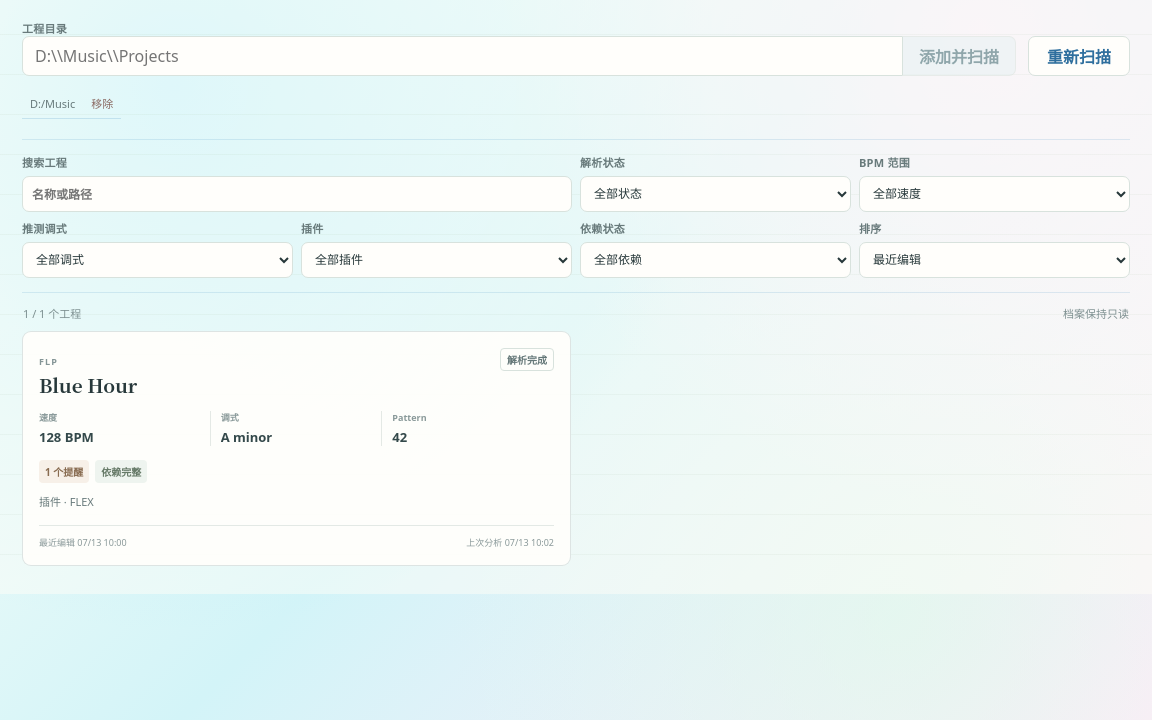
StudioLibrary › reports a completed scan refresh failure after completion is rendered
The width and height of the screenshot is (1152, 720).
Click the button "重新扫描".
click(1079, 56)  # box [1028,36,1130,76]
Wait 1000 ms
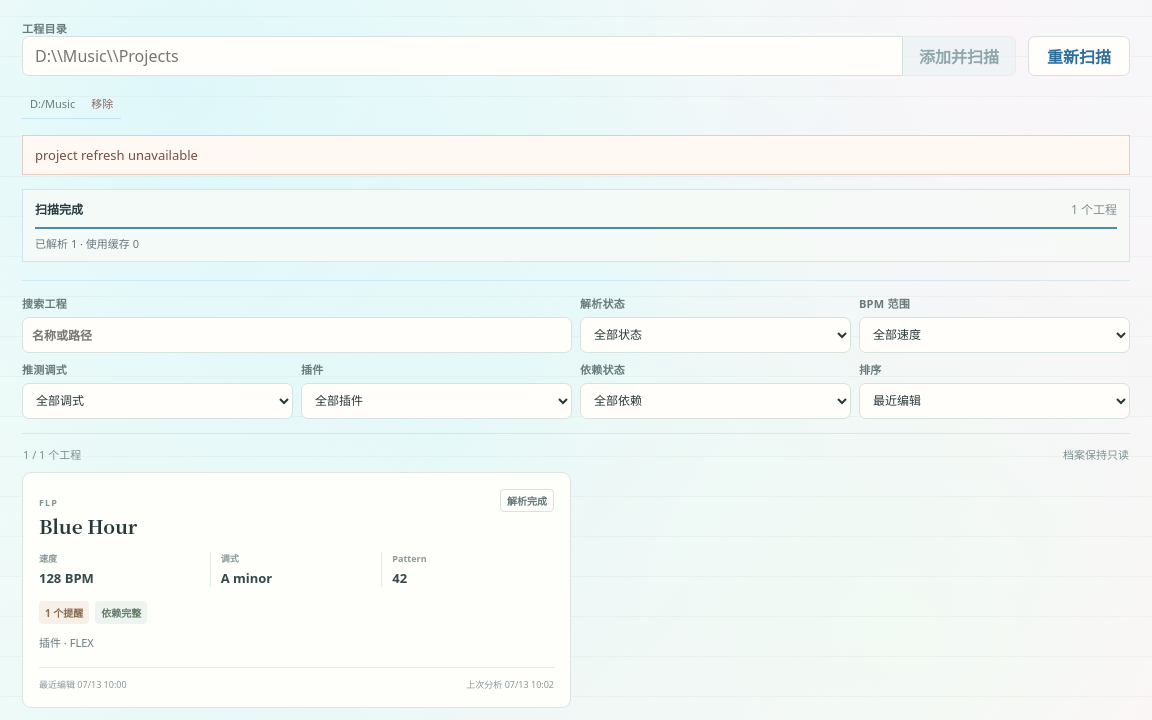
Check: the text "扫描完成" is shown, box [35,200,83,218]
Check: the message reads "project refresh unavailable", box [35,146,198,164]
